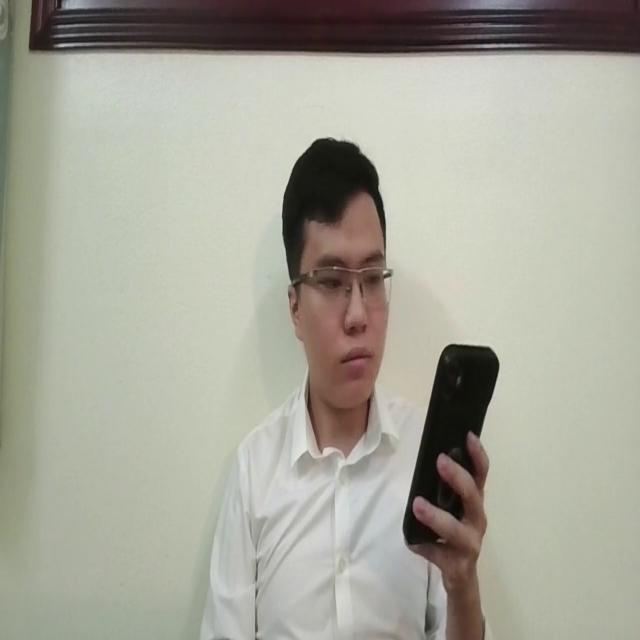phone: (397, 336, 501, 549)
student: (202, 130, 491, 640)
